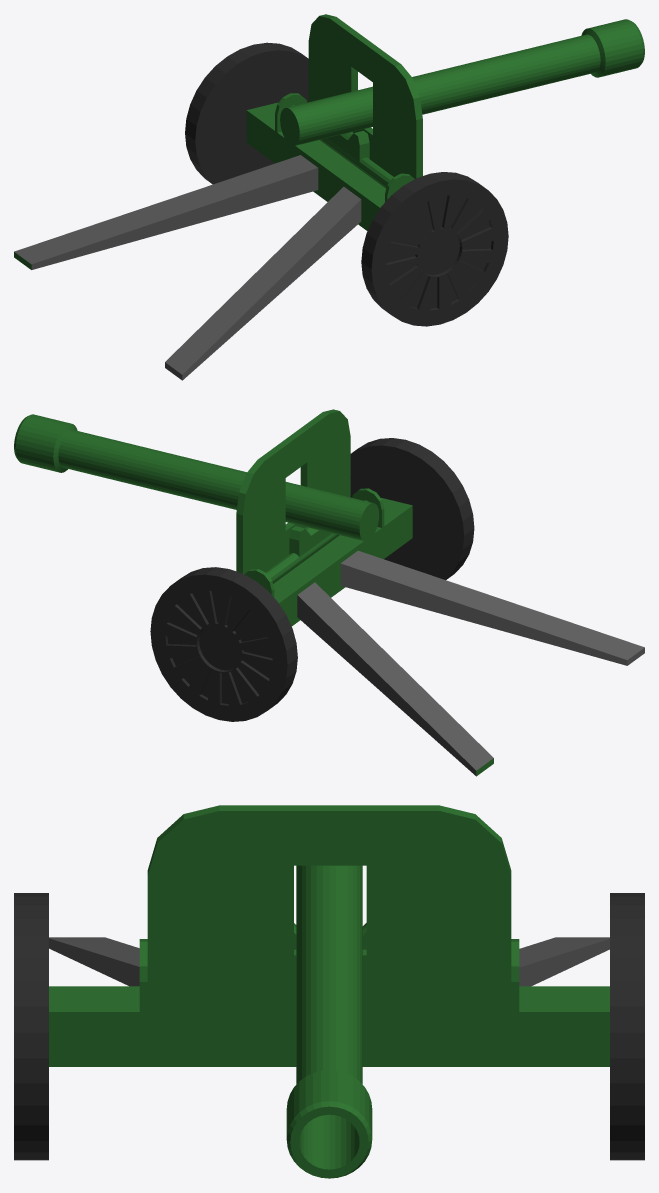
Rendered from howitzer.fbx.
3 renders of one model, top to bottom at view 1: azimuth 30°, elevation 25°; view 2: azimuth 150°, elevation 25°; view 3: azimuth 270°, elevation 25°, orthographic. The views are drawn at different scales.
Visible parts, largest first — view 1: HowitzerBody, Wheel, Barrel, Wheel.001; view 2: HowitzerBody, Wheel.001, Barrel, Wheel; view 3: HowitzerBody, Barrel, Wheel, Wheel.001.
Part boxes in pixels (left/top/right/bottom): HowitzerBody: left=14, top=14, right=422, bottom=380; Wheel: left=361, top=172, right=508, bottom=326; Barrel: left=280, top=19, right=644, bottom=146; Wheel.001: left=185, top=42, right=308, bottom=184; HowitzerBody: left=236, top=409, right=644, bottom=776; Wheel.001: left=150, top=567, right=297, bottom=721; Barrel: left=14, top=414, right=379, bottom=541; Wheel: left=350, top=438, right=474, bottom=579; HowitzerBody: left=49, top=805, right=609, bottom=1066; Barrel: left=286, top=865, right=372, bottom=1178; Wheel: left=14, top=893, right=48, bottom=1160; Wheel.001: left=610, top=893, right=644, bottom=1160.
Size of the model in its own units: 515 by 196 by 311.
